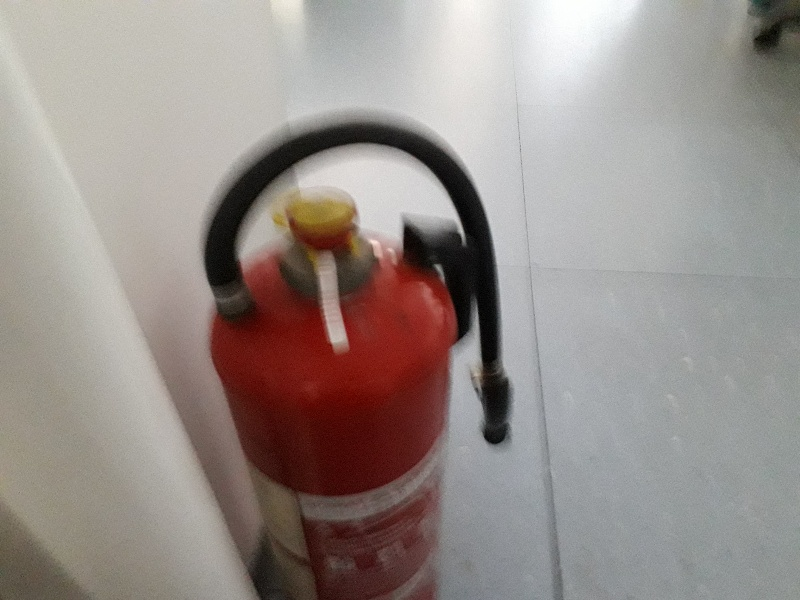vataparat: (206, 126, 509, 599)
